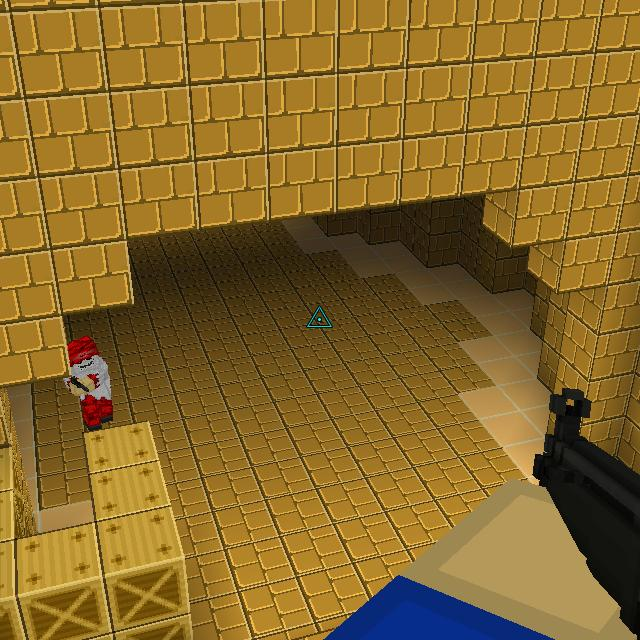enemy: (61, 334, 120, 432)
